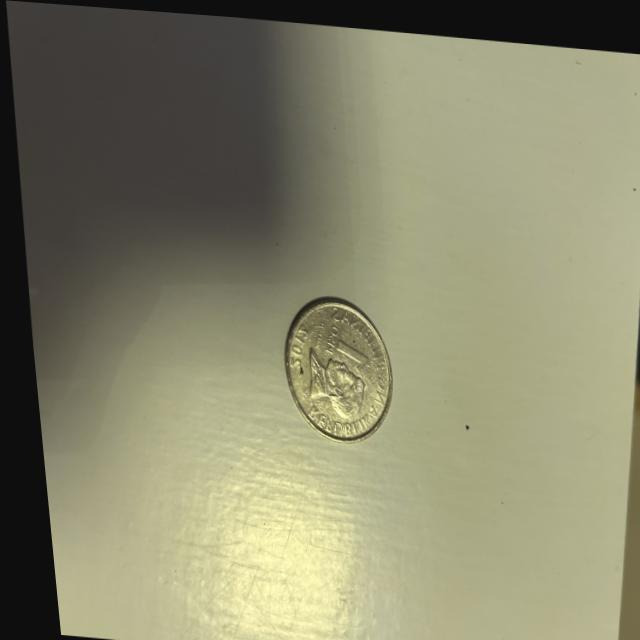1_Old_Front: (314, 315, 363, 371)
